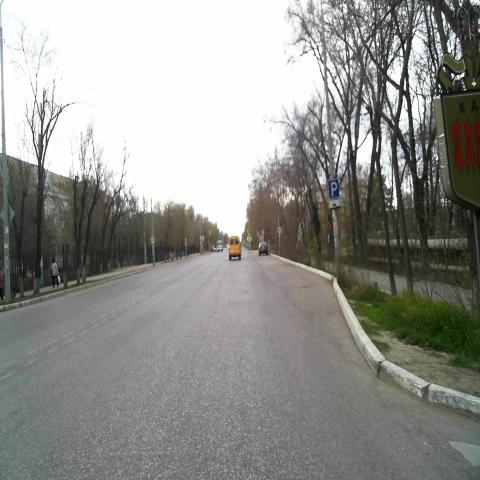8_6_2: (328, 199, 340, 209)
